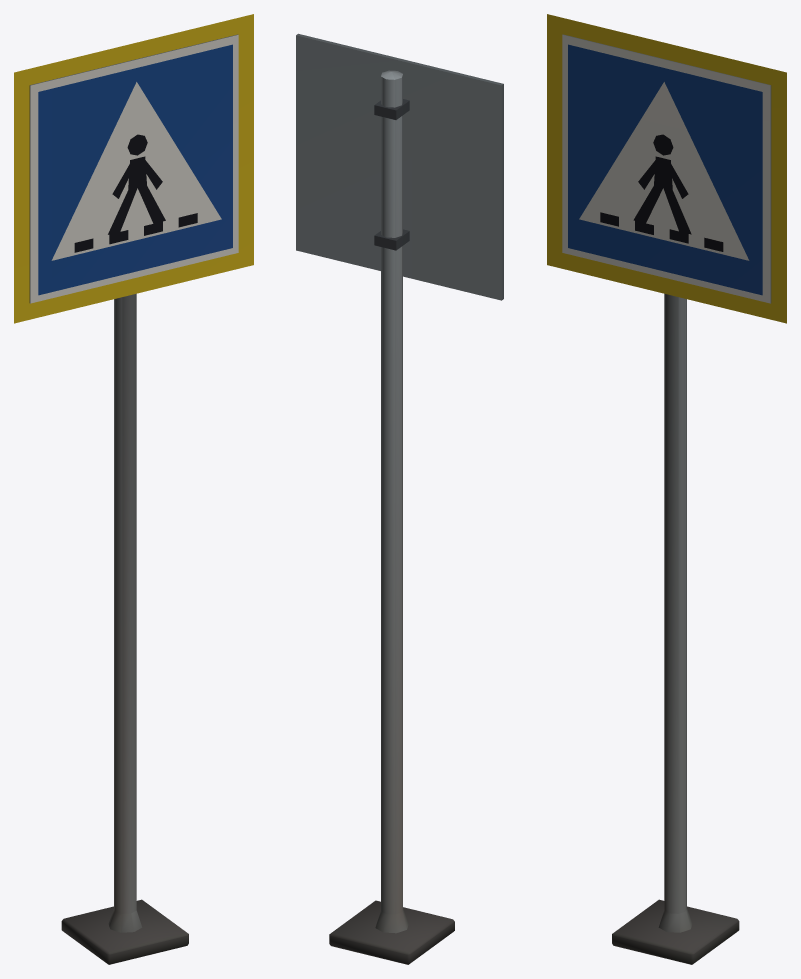
File: crosswalk_sign.glb
3 views of the same model, side by side, from view 1: azimuth 30°, elevation 25°; view 2: azimuth 150°, elevation 25°; view 3: azimuth 330°, elevation 25° (orthographic).
Visible parts, largest first — view 1: CrosswalkSign; view 2: CrosswalkSign; view 3: CrosswalkSign.
Boxes of the visible parts, x1,y1,x2,y2 form: CrosswalkSign: (14, 14, 253, 964); CrosswalkSign: (296, 33, 503, 964); CrosswalkSign: (547, 14, 786, 964).
Size of the model in its own units: 0.76 by 2.73 by 0.26.
